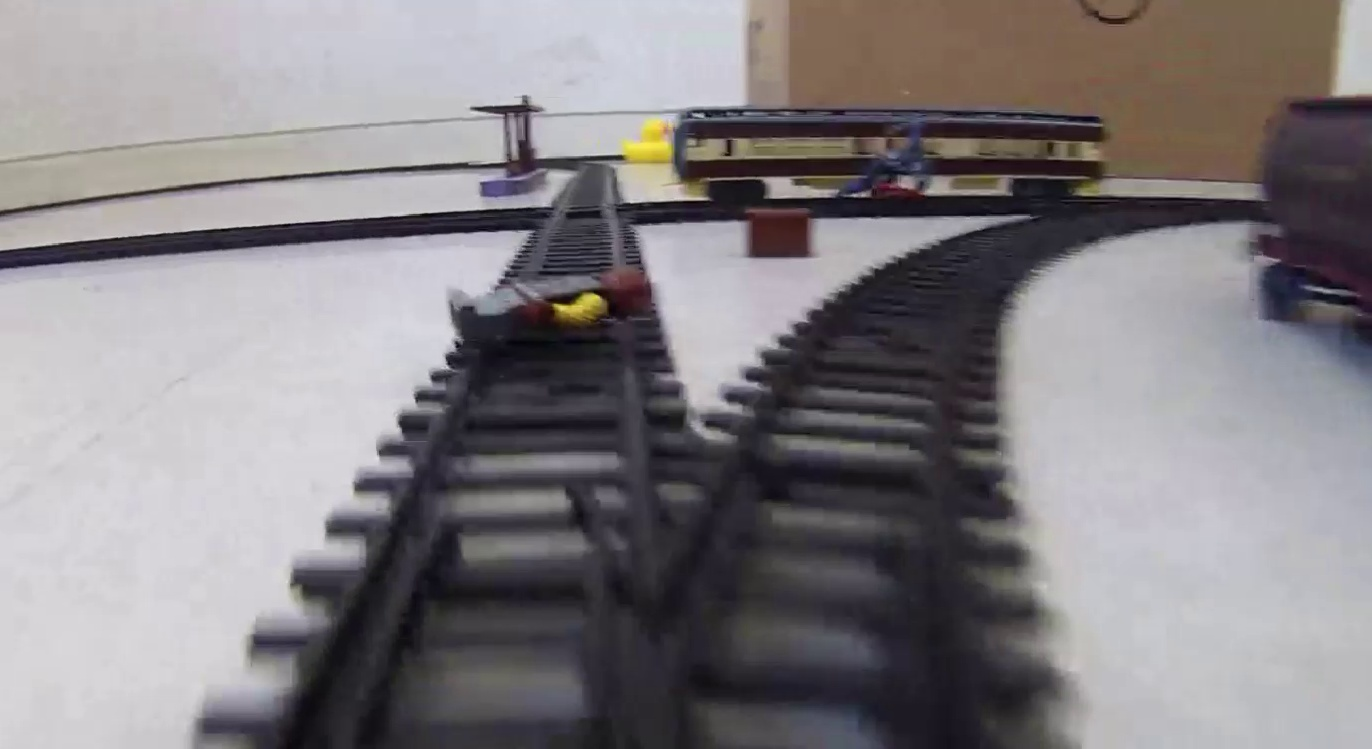box: (741, 203, 817, 263)
people: (444, 260, 660, 348)
